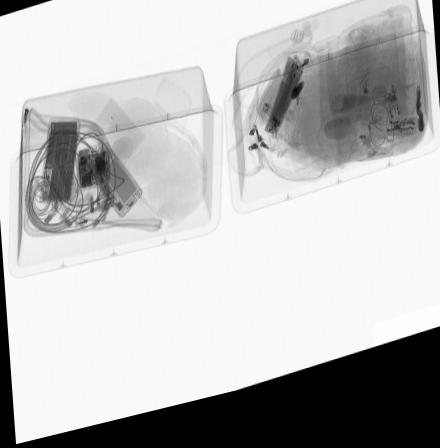Lighter: (39, 164, 51, 196)
